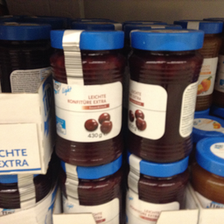jam: (50, 28, 124, 164), (129, 28, 203, 159), (126, 154, 193, 222), (59, 159, 125, 224)
